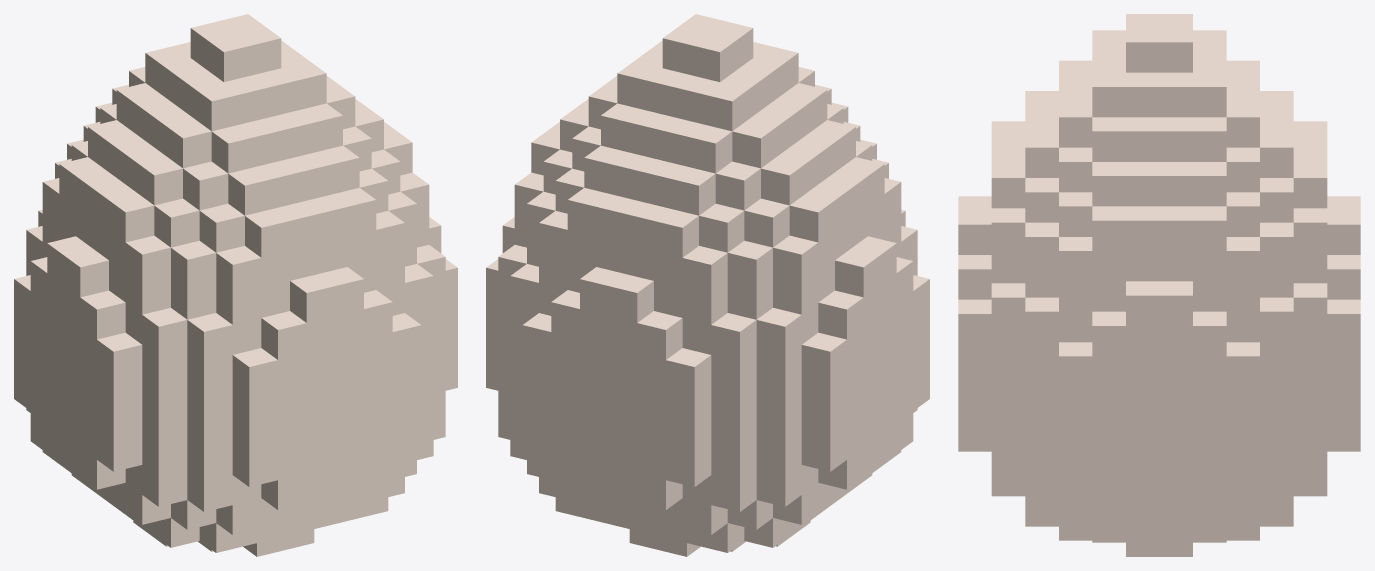
The model's file is Duck_Egg.glb.
The picture shows the model from 3 angles, left to right: view 1: azimuth 30°, elevation 25°; view 2: azimuth 150°, elevation 25°; view 3: azimuth 270°, elevation 25°; orthographic projection.
Visible parts, largest first — view 1: Cube_copy_copy_copy_copy_copy_copy_copy_copy_copy_copy_copy_ (×71), Cube_copy_1, Cube_copy_copy_copy_6, Cube_copy_copy_copy, Cube_copy_copy_copy_copy_copy_copy_copy_copy_copy, Cube_copy_copy_copy_9, Cube_copy_copy_copy_copy_copy_5, Cube_copy_4, Cube_copy_copy_copy_2, Cube_copy_copy_copy_copy_copy_copy_copy_copy_1, Cube_copy_copy_copy_copy_copy_8, Cube_copy_copy_copy_copy_copy_copy_6 (+59 smaller); view 2: Cube_copy_copy_copy_copy_copy_copy_copy_copy_copy_copy_copy_ (×71), Cube, Cube_copy_copy_copy_copy_copy_15, Cube_copy_copy_1, Cube_copy_copy_copy_copy_copy_17, Cube_copy_copy_copy_copy_copy_copy_copy_25, Cube_copy_copy_copy_20, Cube_copy_copy_4, Cube_copy_copy_copy_copy_copy_copy_copy_21, Cube_copy_copy_copy_copy_copy_copy_24, Cube_copy_copy_copy_copy_copy_copy_21, Cube_copy_copy_copy_copy_copy_copy_copy_copy_22 (+59 smaller); view 3: Cube_copy_copy_copy_copy_copy_copy_copy_copy_copy_copy_copy_ (×99), Cube_copy_copy_copy_copy_copy_copy_12, Cube_copy_copy_copy_copy_copy_copy_copy_copy_copy_copy_2, Cube_copy_copy_copy_copy_6, Cube_copy_5, Cube_copy_copy_12, Cube_copy_copy_copy_copy_copy_copy_19, Cube_copy_copy_copy_copy_18, Cube_copy_copy_8, Cube_copy_copy_copy_copy_4, Cube_copy_copy_copy_13, Cube_copy_copy_copy_copy_9 (+60 smaller).
Part boxes in pixels (x1=…): Cube_copy_copy_copy_copy_copy_copy_copy_copy_copy_copy_copy_ (×71): x1=26, y1=21, x2=445, y2=552; Cube_copy_1: x1=80, y1=290, x2=125, y2=339; Cube_copy_copy_copy_6: x1=290, y1=274, x2=335, y2=322; Cube_copy_copy_copy: x1=63, y1=248, x2=108, y2=297; Cube_copy_copy_copy_copy_copy_copy_copy_copy_copy: x1=125, y1=235, x2=170, y2=284; Cube_copy_copy_copy_9: x1=232, y1=348, x2=277, y2=396; Cube_copy_copy_copy_copy_copy_5: x1=142, y1=308, x2=187, y2=356; Cube_copy_4: x1=261, y1=311, x2=306, y2=359; Cube_copy_copy_copy_2: x1=97, y1=332, x2=142, y2=381; Cube_copy_copy_copy_copy_copy_copy_copy_copy_1: x1=125, y1=273, x2=170, y2=314; Cube_copy_copy_copy_copy_copy_8: x1=232, y1=415, x2=277, y2=456; Cube_copy_copy_copy_copy_copy_copy_6: x1=142, y1=405, x2=187, y2=446; Cube_copy_copy_copy_copy_copy_copy_copy_copy_copy_copy_copy_ (×71): x1=510, y1=21, x2=884, y2=552; Cube: x1=818, y1=290, x2=863, y2=339; Cube_copy_copy_copy_copy_copy_15: x1=608, y1=274, x2=653, y2=322; Cube_copy_copy_1: x1=835, y1=248, x2=880, y2=297; Cube_copy_copy_copy_copy_copy_17: x1=666, y1=348, x2=711, y2=396; Cube_copy_copy_copy_copy_copy_copy_copy_25: x1=711, y1=313, x2=756, y2=361; Cube_copy_copy_copy_20: x1=637, y1=311, x2=682, y2=359; Cube_copy_copy_4: x1=801, y1=332, x2=846, y2=381; Cube_copy_copy_copy_copy_copy_copy_copy_21: x1=666, y1=415, x2=711, y2=456; Cube_copy_copy_copy_copy_copy_copy_24: x1=711, y1=350, x2=756, y2=391; Cube_copy_copy_copy_copy_copy_copy_21: x1=666, y1=385, x2=711, y2=426; Cube_copy_copy_copy_copy_copy_copy_copy_copy_22: x1=711, y1=410, x2=756, y2=451; Cube_copy_copy_copy_copy_copy_copy_copy_copy_copy_copy_copy_ (×99): x1=991, y1=14, x2=1327, y2=556; Cube_copy_copy_copy_copy_copy_copy_12: x1=991, y1=283, x2=1025, y2=327; Cube_copy_copy_copy_copy_copy_copy_copy_copy_copy_copy_2: x1=991, y1=208, x2=1025, y2=252; Cube_copy_copy_copy_copy_6: x1=958, y1=299, x2=991, y2=344; Cube_copy_5: x1=1092, y1=311, x2=1125, y2=356; Cube_copy_copy_12: x1=1193, y1=311, x2=1226, y2=356; Cube_copy_copy_copy_copy_copy_copy_19: x1=1260, y1=297, x2=1293, y2=342; Cube_copy_copy_copy_copy_18: x1=1327, y1=299, x2=1360, y2=344; Cube_copy_copy_8: x1=958, y1=255, x2=991, y2=299; Cube_copy_copy_copy_copy_4: x1=958, y1=210, x2=991, y2=254; Cube_copy_copy_copy_13: x1=1126, y1=281, x2=1159, y2=325; Cube_copy_copy_copy_copy_9: x1=1159, y1=281, x2=1192, y2=325.
Size of the model in its own units: 1.2 by 1.6 by 1.2.
